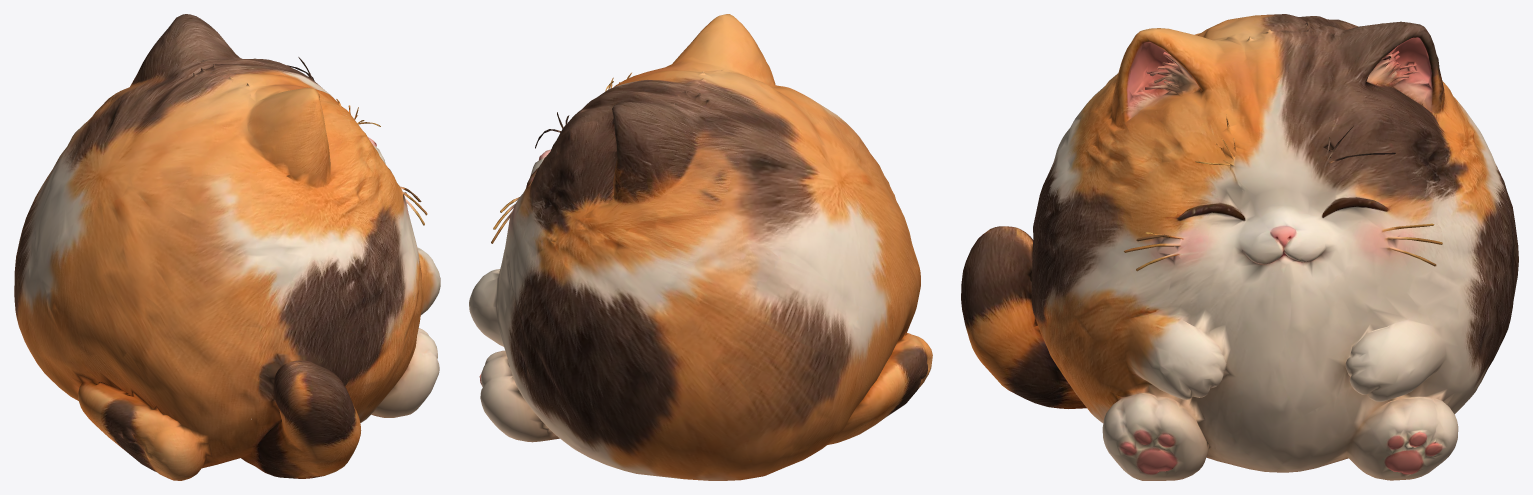
File: CAT_L04.glb
3 renders of one model, left to right at view 1: azimuth 30°, elevation 25°; view 2: azimuth 150°, elevation 25°; view 3: azimuth 270°, elevation 25°, orthographic. The views are drawn at different scales.
Visible parts, largest first — view 1: tripo_node_c58fb4b2-b2ca-485e-9da8-463143d5fb43; view 2: tripo_node_c58fb4b2-b2ca-485e-9da8-463143d5fb43; view 3: tripo_node_c58fb4b2-b2ca-485e-9da8-463143d5fb43.
Part boxes in pixels (<box>): tripo_node_c58fb4b2-b2ca-485e-9da8-463143d5fb43: <box>14,14,440,480</box>; tripo_node_c58fb4b2-b2ca-485e-9da8-463143d5fb43: <box>469,14,932,480</box>; tripo_node_c58fb4b2-b2ca-485e-9da8-463143d5fb43: <box>961,14,1518,480</box>.
Bounding box in the file's own units: 0.8316 × 0.7797 × 0.9802.
1 material, 1 textured.
